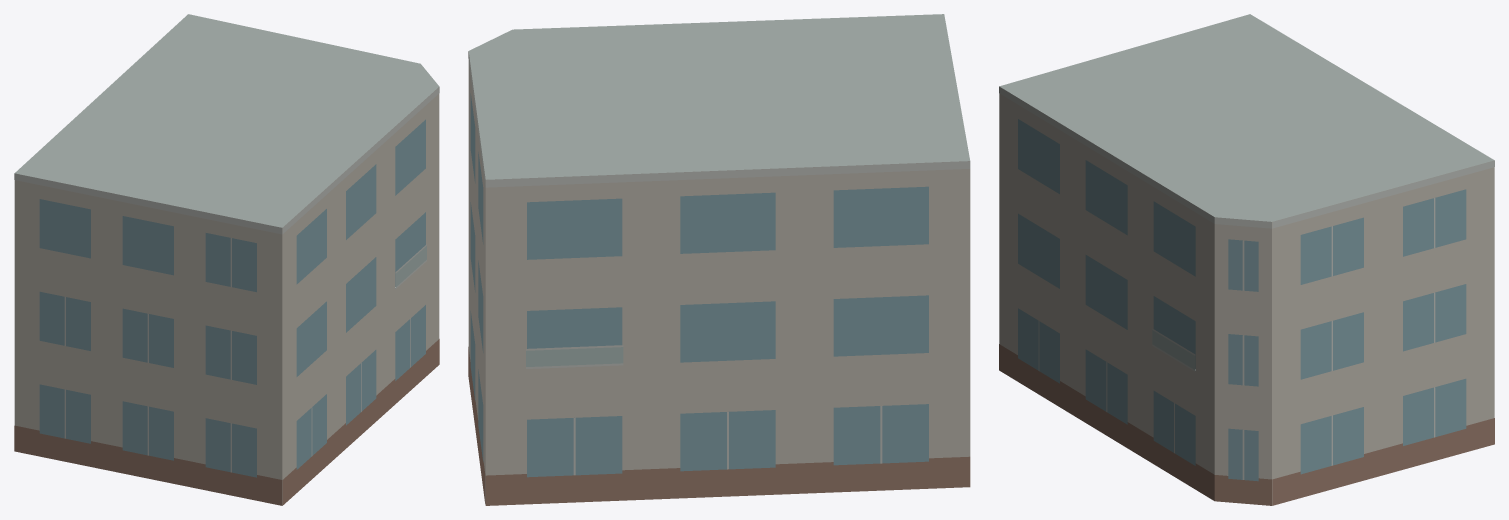
File: survey-upis-32690989.glb
3 renders of one model, left to right at view 1: azimuth 30°, elevation 25°; view 2: azimuth 150°, elevation 25°; view 3: azimuth 270°, elevation 25°, orthographic. The views are drawn at different scales.
Parts seen in each view (by area): view 1: survey-upis-32690989.tmp; view 2: survey-upis-32690989.tmp; view 3: survey-upis-32690989.tmp.
Boxes of the visible parts, x1,y1,x2,y2 form: survey-upis-32690989.tmp: (14, 14, 439, 505); survey-upis-32690989.tmp: (468, 14, 970, 505); survey-upis-32690989.tmp: (999, 14, 1494, 505).
Bounding box in the file's own units: 16.02 × 10.2 × 16.14.
